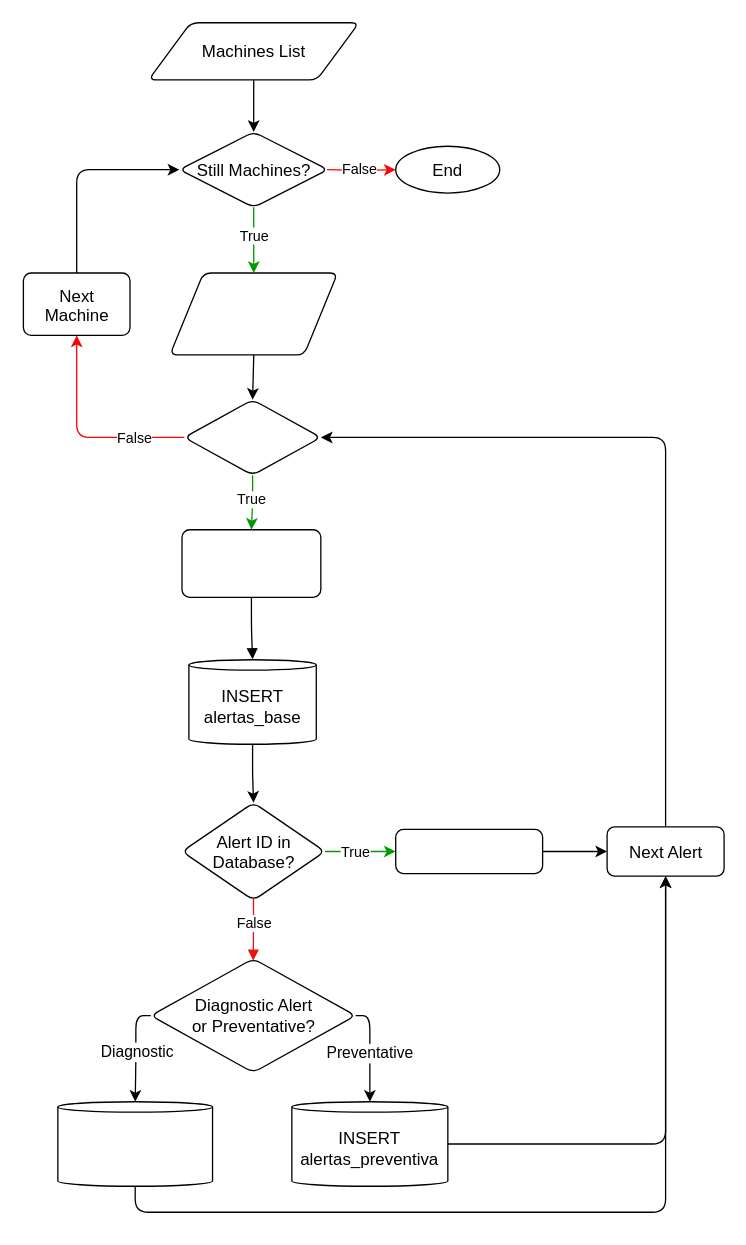
Some shapes in this 746 by 1245 pixel diagram are drawn without their labels. Here are the shapes that lost their labels. From the top down, the centre of each, then its label:
At point 253,313: "GET Machines Alert Data".
At point 252,436: "Still Alerts?".
At point 251,562: "Treat JSON Alert Data".
At point 468,851: "Cancel INSERT".
At point 135,1143: "INSERT alertas_diagnostico".
